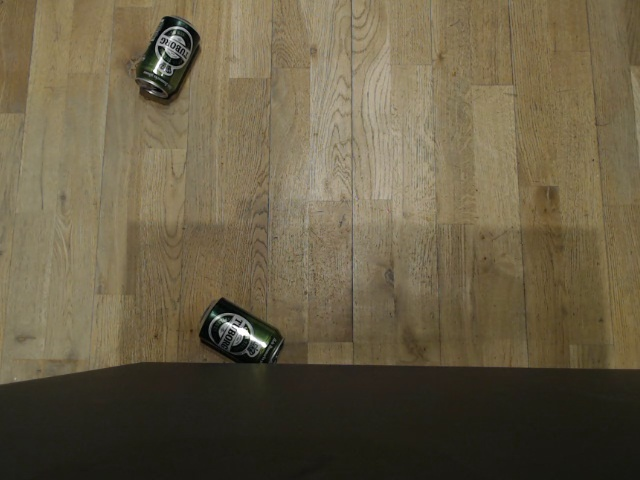beer: (197, 294, 286, 366), (133, 14, 202, 102)
